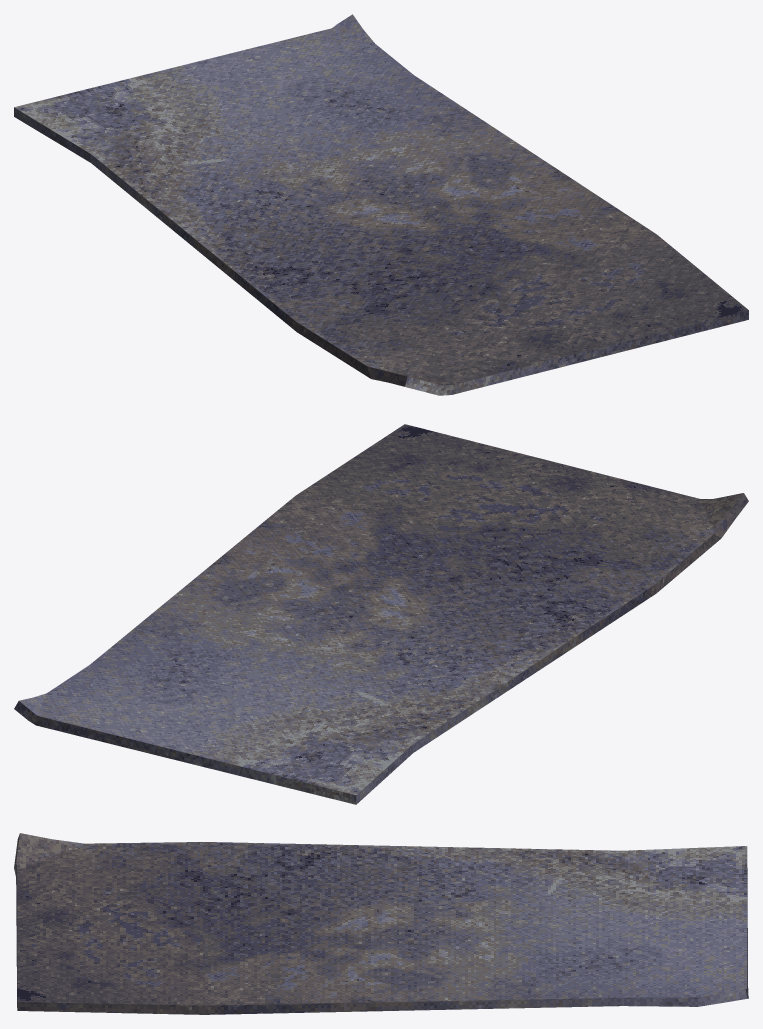
File: sheet_metal.glb
3 views of the same model, one above another, from view 1: azimuth 30°, elevation 25°; view 2: azimuth 150°, elevation 25°; view 3: azimuth 270°, elevation 25° (orthographic). The views are drawn at different scales.
Parts seen in each view (by area): view 1: Plane; view 2: Plane; view 3: Plane.
Boxes of the visible parts, box(x1,y1,x2,y2) form: Plane: box(14, 14, 748, 395); Plane: box(14, 424, 748, 804); Plane: box(14, 833, 748, 1014).
Size of the model in its own units: 0.6325 by 0.0456 by 1.2.
1 material, 1 textured.
